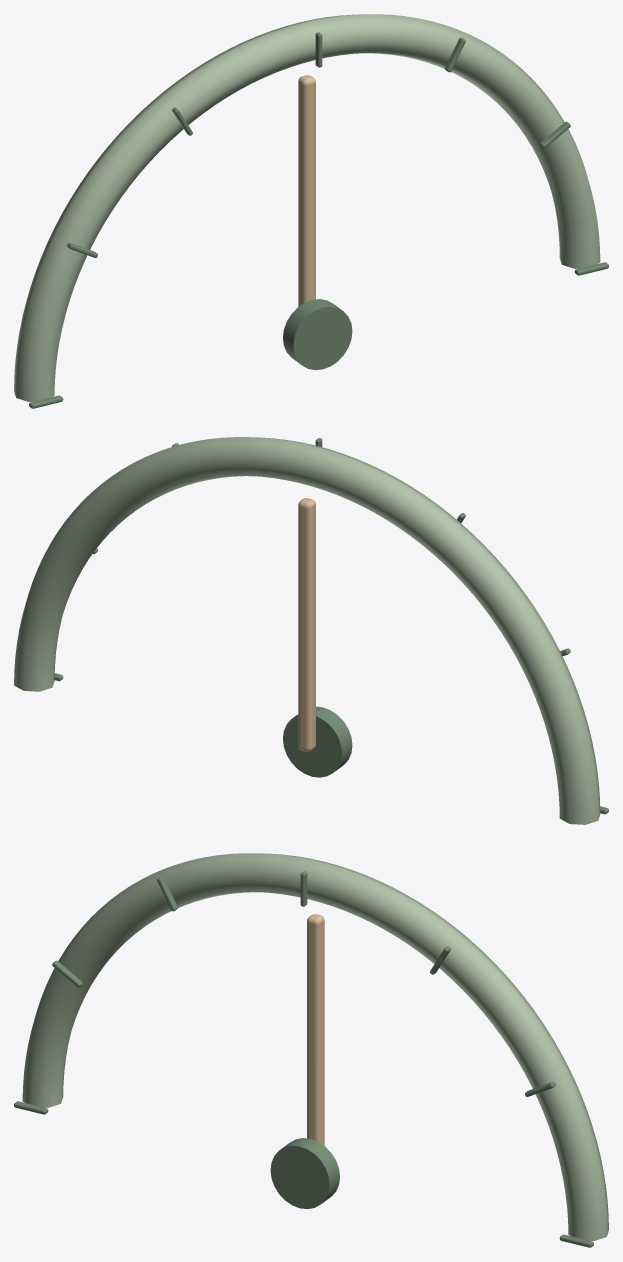
The model's file is rudder_gauge.glb.
The picture shows the model from 3 angles, top to bottom: view 1: azimuth 30°, elevation 25°; view 2: azimuth 150°, elevation 25°; view 3: azimuth 330°, elevation 25°; orthographic projection.
Visible parts, largest first — view 1: dial_arc, dial_needle, dial_hub; view 2: dial_arc, dial_needle, dial_hub; view 3: dial_arc, dial_needle, dial_hub.
Boxes of the visible parts, bbox=[...] form: dial_arc: bbox=[14, 14, 600, 401]; dial_needle: bbox=[298, 75, 315, 306]; dial_hub: bbox=[283, 299, 352, 370]; dial_arc: bbox=[14, 437, 600, 824]; dial_needle: bbox=[298, 498, 315, 751]; dial_hub: bbox=[283, 706, 352, 777]; dial_arc: bbox=[22, 853, 608, 1240]; dial_needle: bbox=[307, 914, 324, 1145]; dial_hub: bbox=[270, 1138, 339, 1209].
Bounding box in the file's own units: 0.256 × 0.141 × 0.02.
